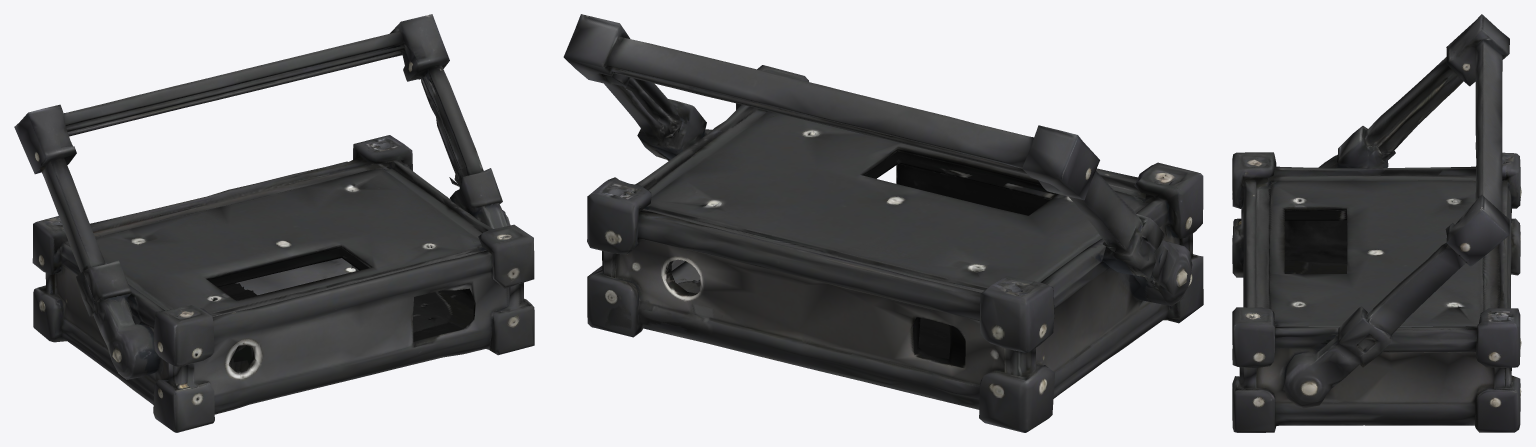
File: case.glb
3 views of the same model, side by side, from view 1: azimuth 30°, elevation 25°; view 2: azimuth 150°, elevation 25°; view 3: azimuth 270°, elevation 25° (orthographic). The views are drawn at different scales.
Bounding box in the file's own units: 2 × 1.12 × 1.25.
1 material, 1 textured.
